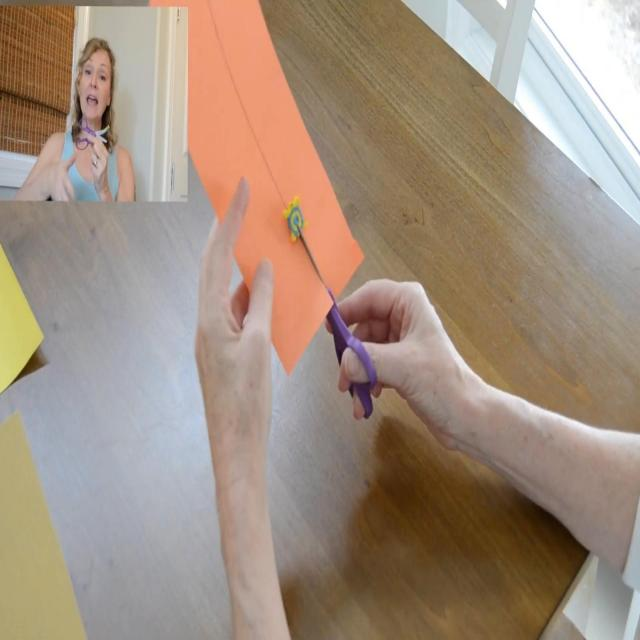scissor: (297, 226, 374, 422), (76, 119, 108, 151)
